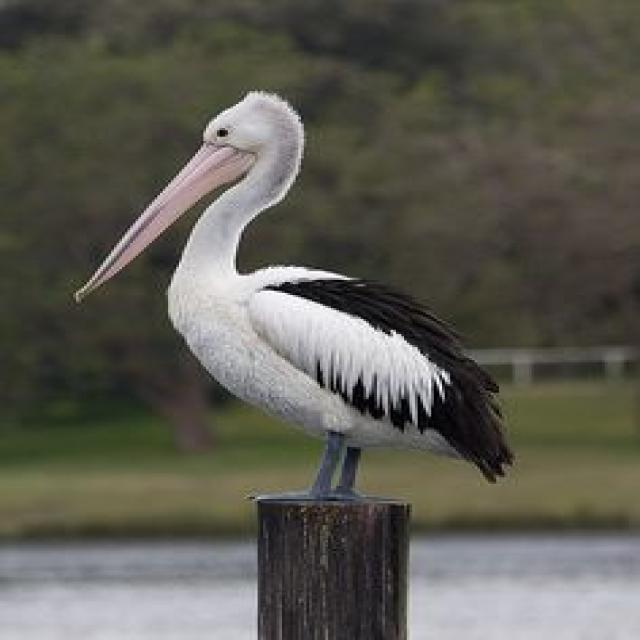Carnivorous: (76, 93, 515, 492)
